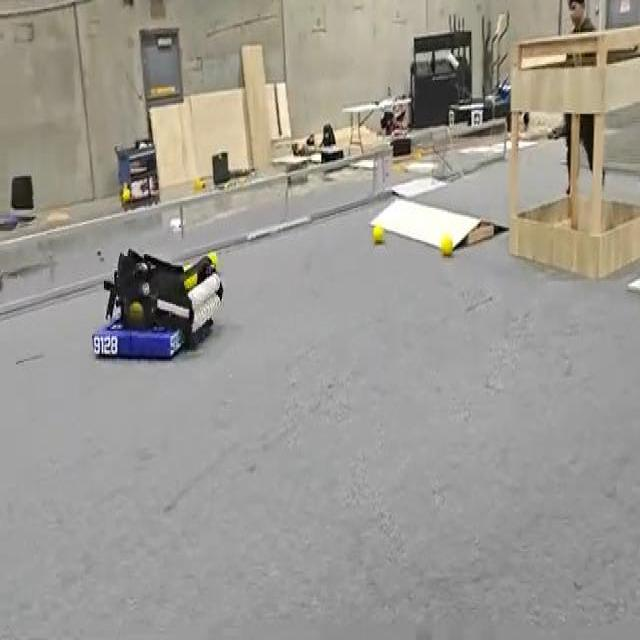Fuel: (440, 233, 452, 256), (440, 235, 452, 256), (373, 225, 384, 244), (372, 226, 384, 243)
